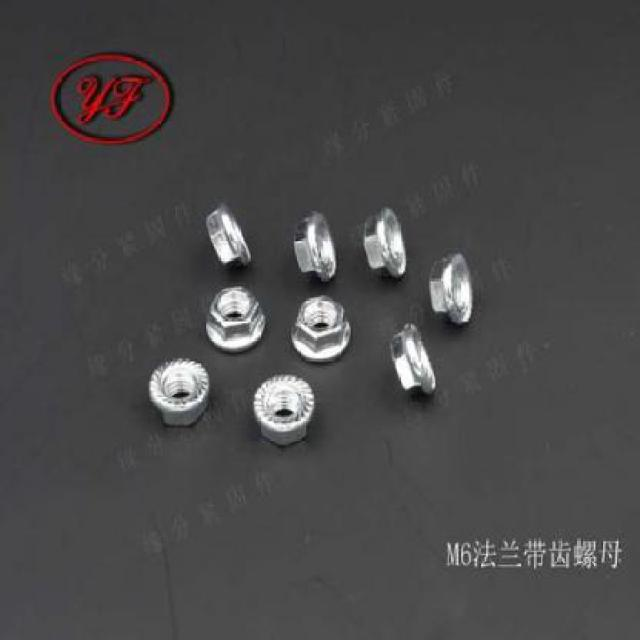Nut: (253, 374, 316, 449), (148, 356, 209, 428), (204, 285, 266, 354), (289, 295, 350, 363)
